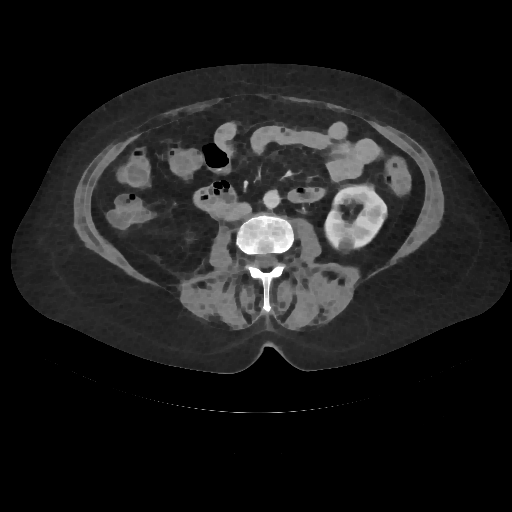Lesion: (337, 232, 357, 258)
